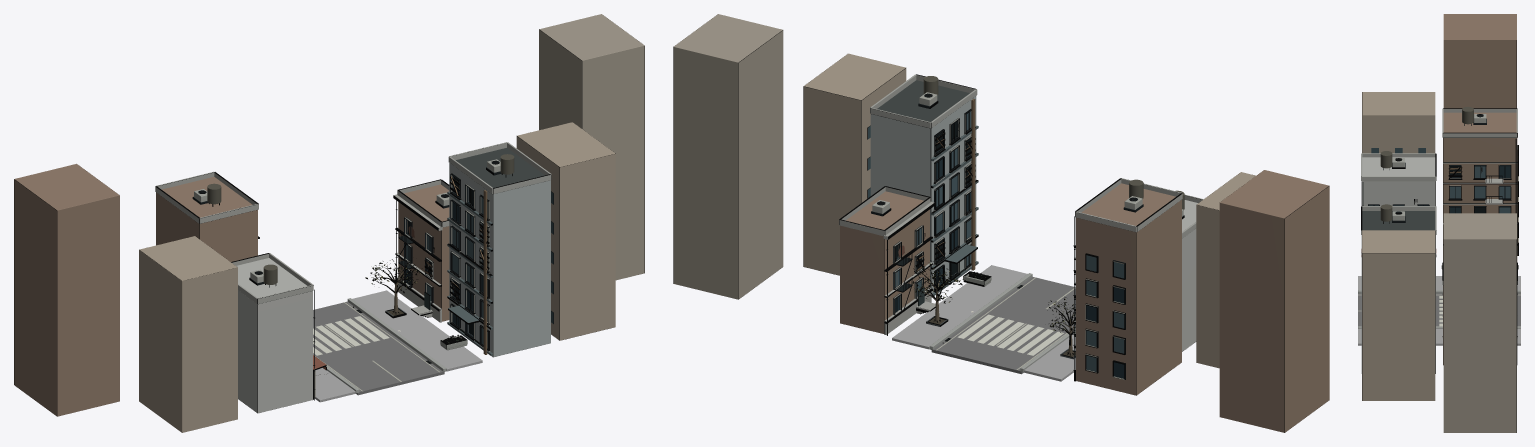
The model's file is city_hd_09.glb.
The picture shows the model from 3 angles, left to right: view 1: azimuth 30°, elevation 25°; view 2: azimuth 150°, elevation 25°; view 3: azimuth 270°, elevation 25°; orthographic projection. The views are drawn at different scales.
Visible parts, largest first — view 1: CITY_awning_rust, CITY_PBR_asphalt, CITY_PBR_pavement, CITY_zebra_paint, CITY_curb; view 2: CITY_awning_rust, CITY_PBR_asphalt, CITY_PBR_pavement, CITY_zebra_paint, CITY_curb; view 3: CITY_awning_rust, CITY_PBR_pavement, CITY_PBR_asphalt, CITY_ac_paint.
Boxes of the visible parts, x1,y1,x2,y2 form: CITY_awning_rust: (14,14,644,432); CITY_PBR_asphalt: (313,301,444,395); CITY_PBR_pavement: (314,290,482,402); CITY_zebra_paint: (313,316,389,355); CITY_curb: (326,298,446,393); CITY_awning_rust: (673,14,1329,432); CITY_PBR_asphalt: (931,277,1075,374); CITY_PBR_pavement: (892,265,1075,381); CITY_zebra_paint: (957,314,1063,355); CITY_curb: (929,273,1075,372); CITY_awning_rust: (1361,14,1518,432); CITY_PBR_pavement: (1358,276,1520,345); CITY_PBR_asphalt: (1358,293,1520,326); CITY_ac_paint: (1392,114,1486,220).
Bounding box in the file's own units: 56.65 × 21.26 × 16.
10 materials, 1 textured.
